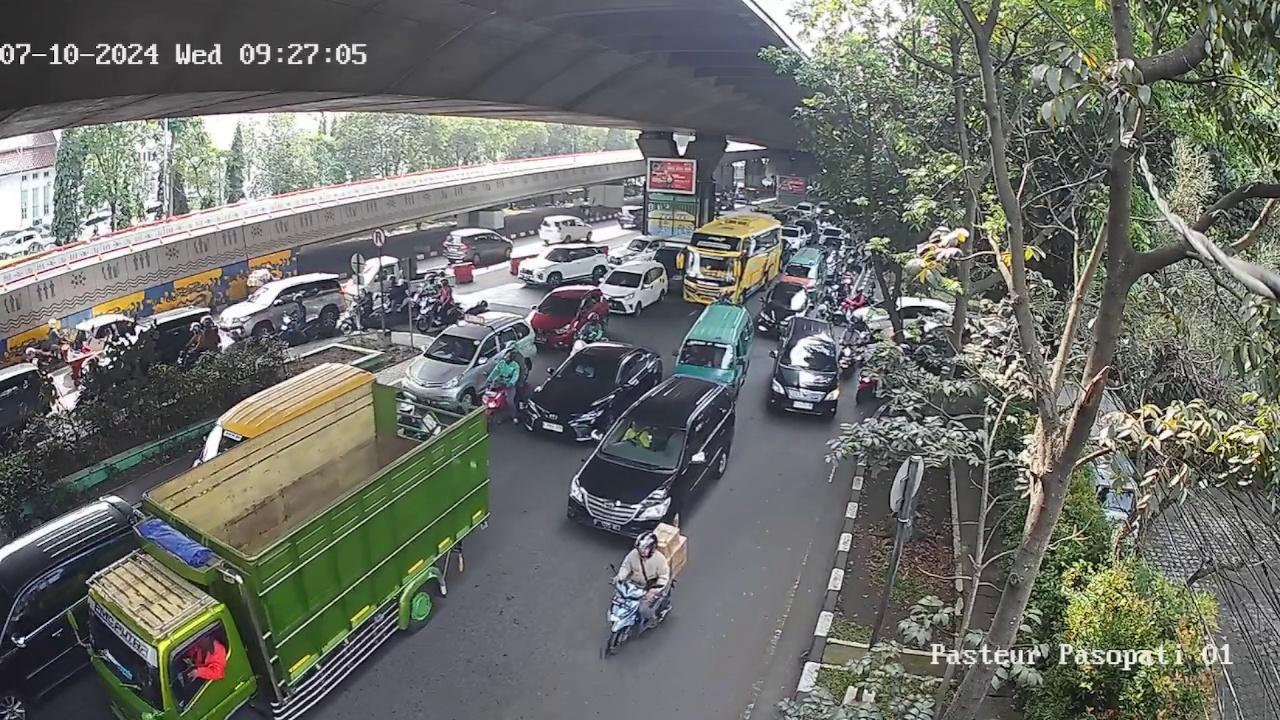tidak-pakai: (620, 422, 654, 453)
windshield: (602, 410, 697, 466), (555, 349, 624, 385), (420, 333, 478, 365), (680, 342, 734, 368), (783, 337, 830, 365), (539, 295, 585, 317)
